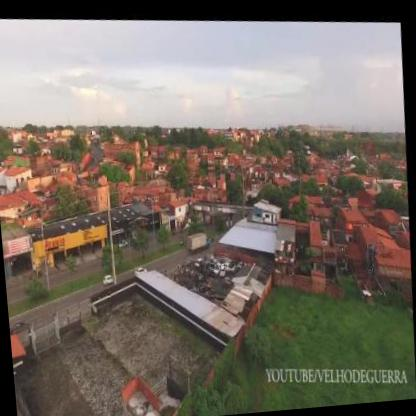lixo: (178, 254, 212, 285), (208, 247, 238, 273)
